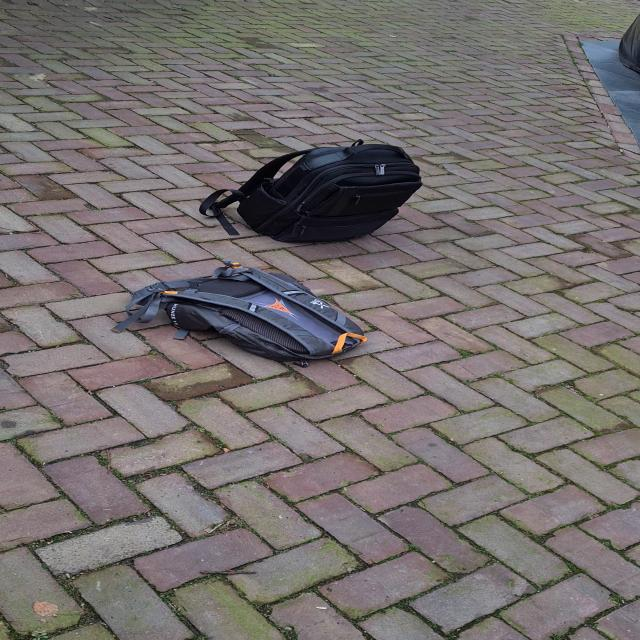backpack: (114, 267, 371, 368), (227, 143, 430, 249)
